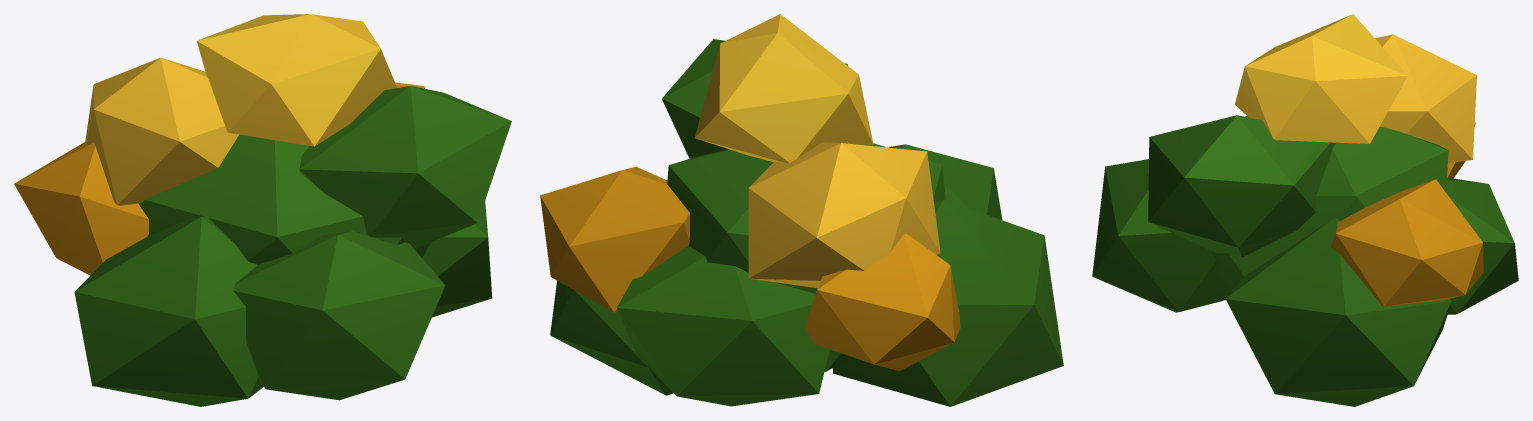
The model's file is oakY.glb.
3 renders of one model, left to right at view 1: azimuth 30°, elevation 25°; view 2: azimuth 150°, elevation 25°; view 3: azimuth 270°, elevation 25°, orthographic. The views are drawn at different scales.
Parts seen in each view (by area): view 1: oakY; view 2: oakY; view 3: oakY.
Part boxes in pixels (bbox=[...]): oakY: bbox=[14, 14, 511, 406]; oakY: bbox=[540, 14, 1063, 406]; oakY: bbox=[1092, 14, 1518, 406].
Bounding box in the file's own units: 1.26 × 0.9861 × 1.15.
